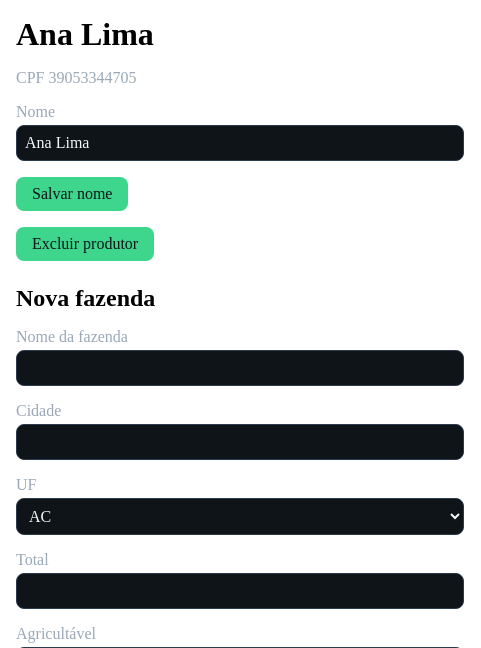
Test: DELETE 409 mostra o detail da API
The image size is (481, 648).
Expected: the heading "Ana Lima" is shown, [16, 16, 154, 52]
Click the button "Excluir produtor" at (85, 244), box [16, 227, 154, 261]
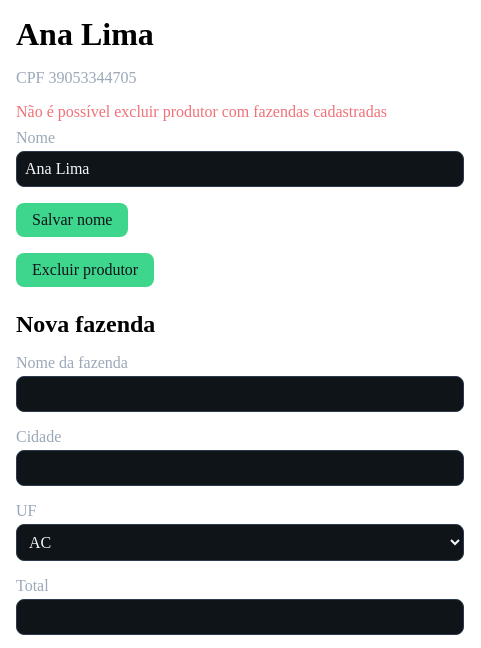
Now the message reads "Não é possível excluir produtor com fazendas cadastradas", box [16, 103, 387, 120]
